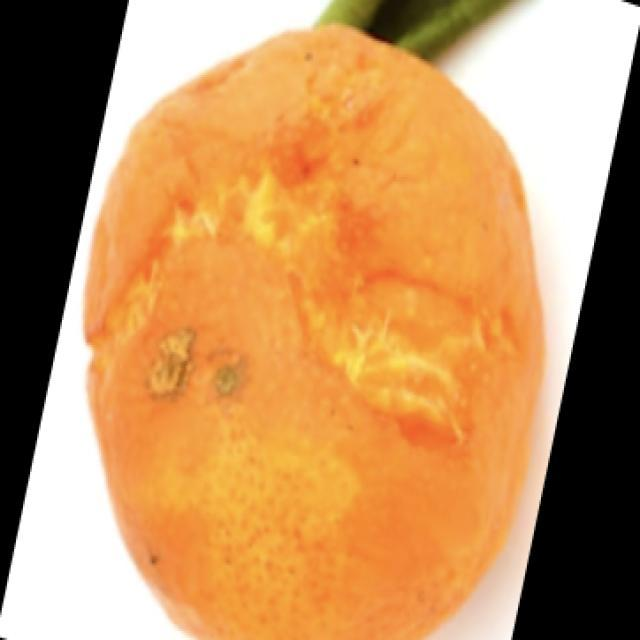sedikit-busuk: (85, 26, 541, 639)
